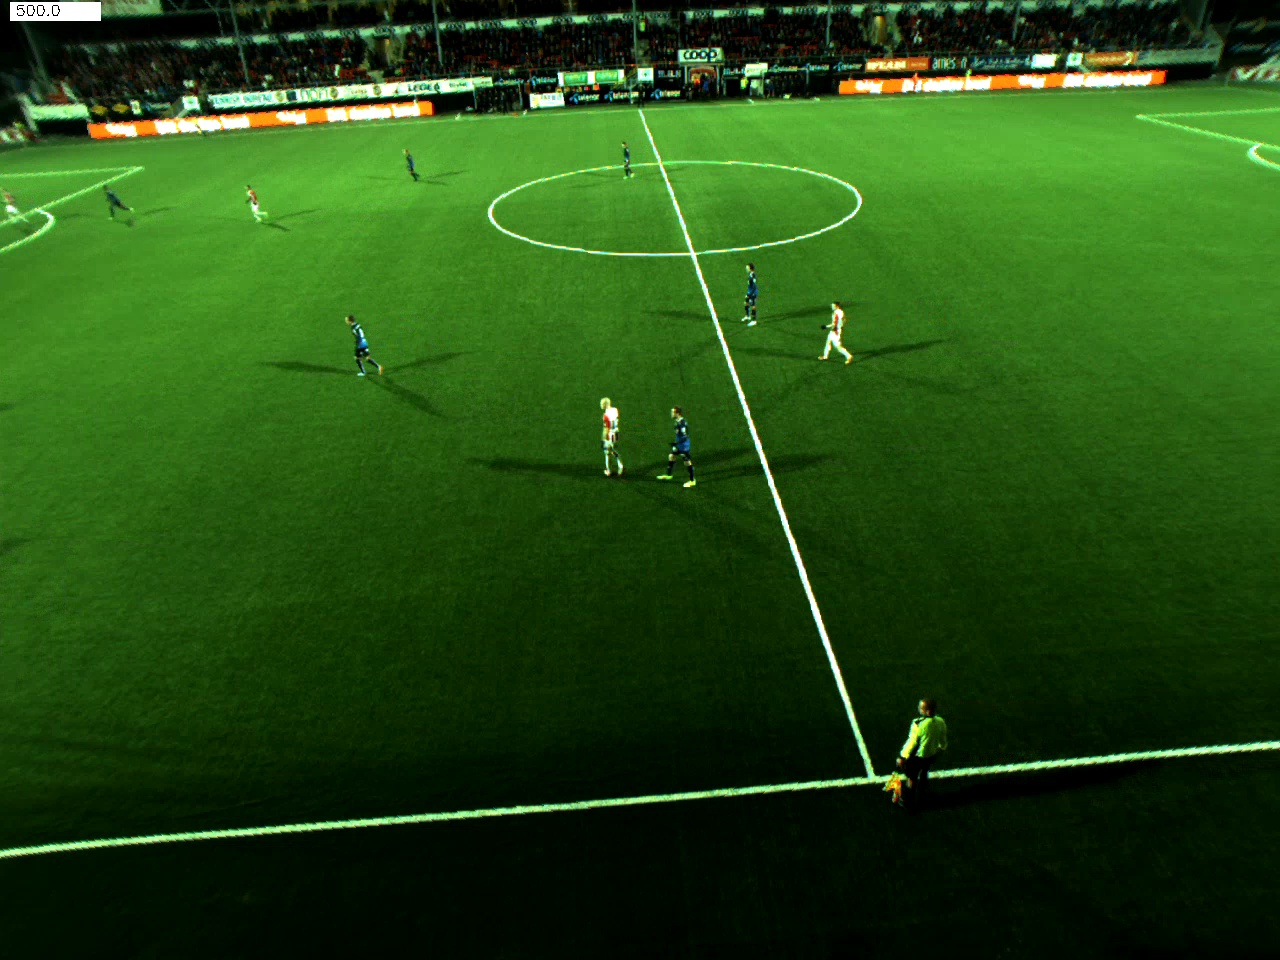blue: (342, 319, 395, 382), (663, 406, 702, 489), (737, 260, 760, 332), (389, 145, 433, 179), (612, 135, 641, 178), (94, 189, 138, 217)
red: (235, 171, 292, 241), (596, 380, 621, 485), (817, 298, 845, 375), (1, 185, 37, 224)
yellow: (883, 684, 941, 813)
